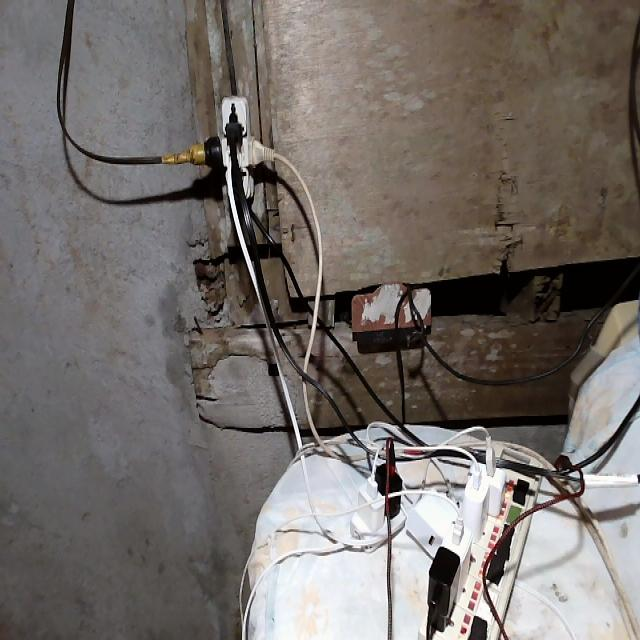-: (177, 93, 288, 203)
